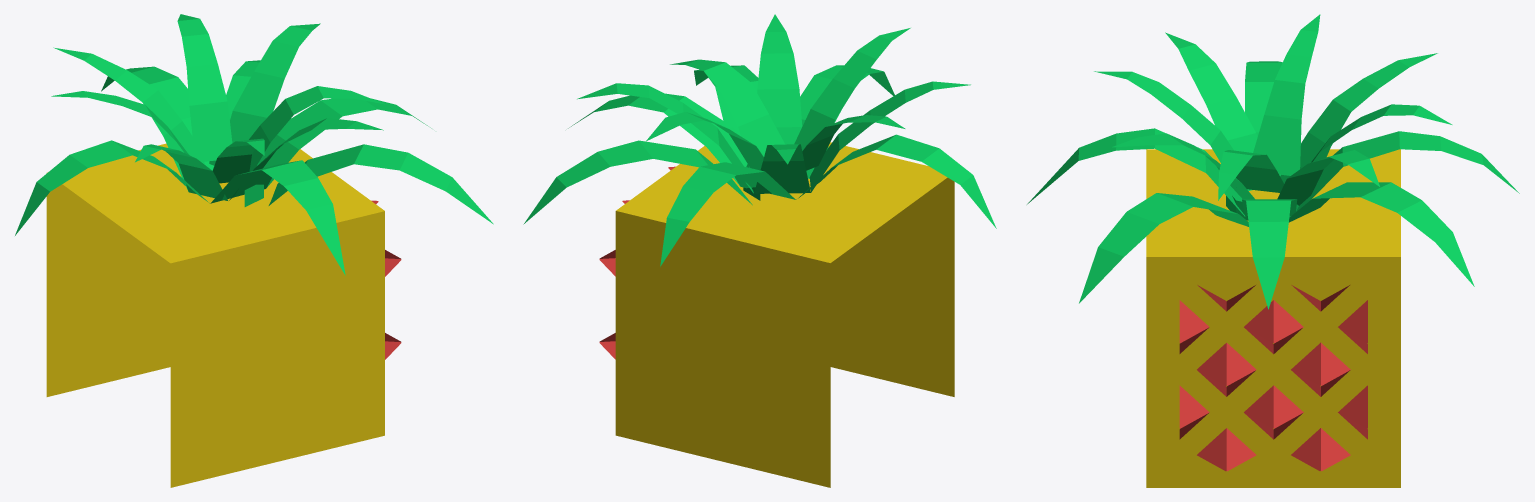
The model's file is pineappledecimatep.fbx.
3 views of the same model, side by side, from view 1: azimuth 30°, elevation 25°; view 2: azimuth 150°, elevation 25°; view 3: azimuth 270°, elevation 25° (orthographic). The views are drawn at different scales.
Parts seen in each view (by area): view 1: Cube.001, Cube.008, Cube.004, Cube.003, Cube.007, Cube; view 2: Cube.001, Cube.003, Cube.008, Cube.004, Cube.007, Cube; view 3: Cube.001, Cube, Cube.008, Cube.004, Cube.003, Cube.007.
Part boxes in pixels (x1,y1,x2,y2): Cube.001: (46, 143, 384, 487); Cube.008: (15, 66, 431, 275); Cube.004: (51, 14, 384, 183); Cube.003: (53, 23, 383, 200); Cube.007: (226, 60, 493, 224); Cube: (371, 200, 401, 359); Cube.001: (615, 142, 954, 487); Cube.003: (577, 14, 970, 193); Cube.008: (568, 65, 996, 266); Cube.004: (646, 28, 910, 170); Cube.007: (523, 65, 758, 224); Cube: (599, 166, 675, 359); Cube.001: (1146, 149, 1400, 487); Cube: (1179, 285, 1367, 471); Cube.008: (1027, 61, 1519, 309); Cube.004: (1094, 14, 1452, 200); Cube.003: (1112, 32, 1437, 205); Cube.007: (1079, 182, 1474, 303).
Bounding box in the file's own units: 52.41 × 39.5 × 50.91.
